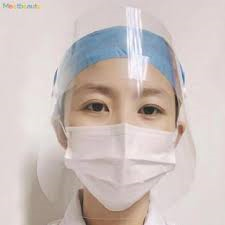with_mask: (60, 71, 181, 216)
